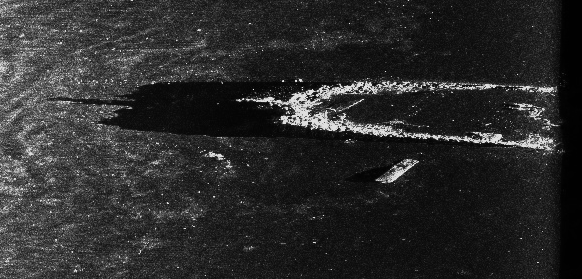ship: (232, 77, 582, 152)
